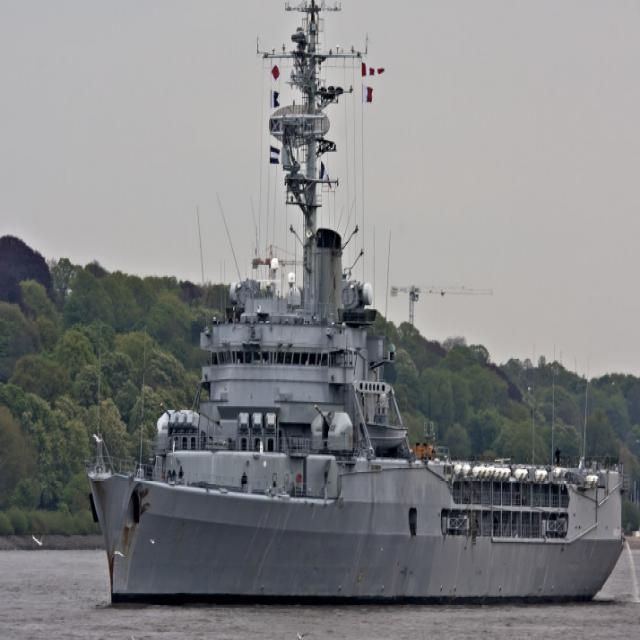Portanaves: (83, 1, 638, 619)
